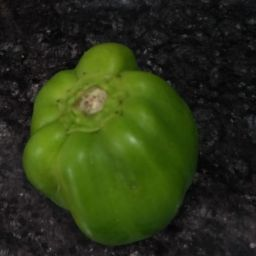Bell pepper: (13, 38, 209, 254)
